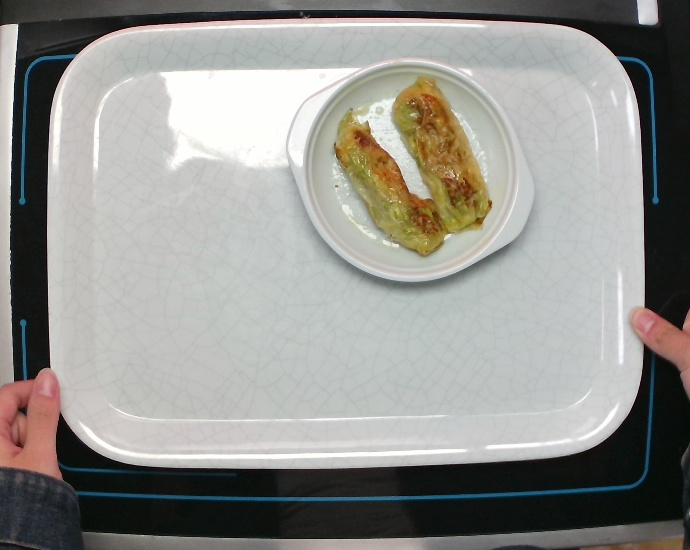JYsf-Shuang_Er_Pan: (281, 52, 537, 286)
